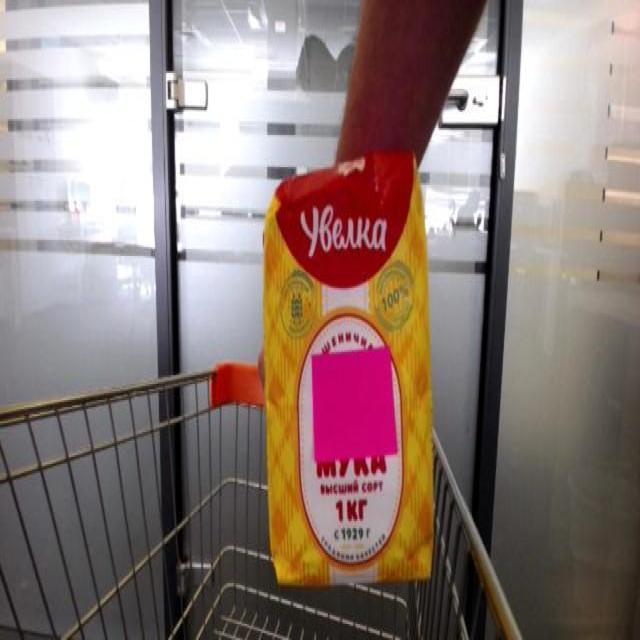Almond Milk: (254, 135, 443, 597)
